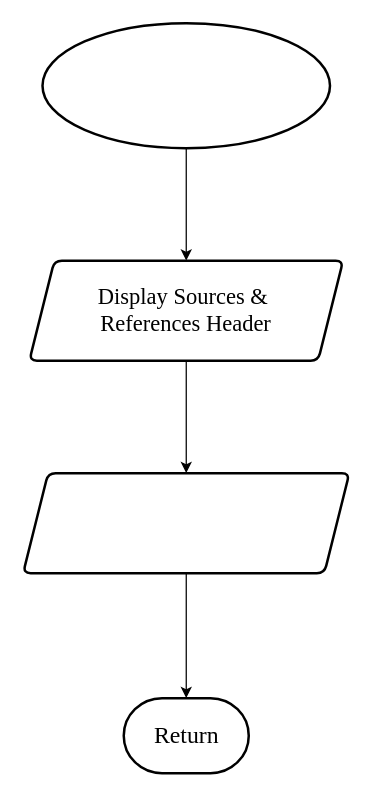
This 371x795 diagram has some shape labels left out. Here are the shapes that lost their labels. From the top down, the centre of each, then its label:
[186,85]: displayReferences()
[185,522]: Display list of academic DOI literature references (1 to 4)
